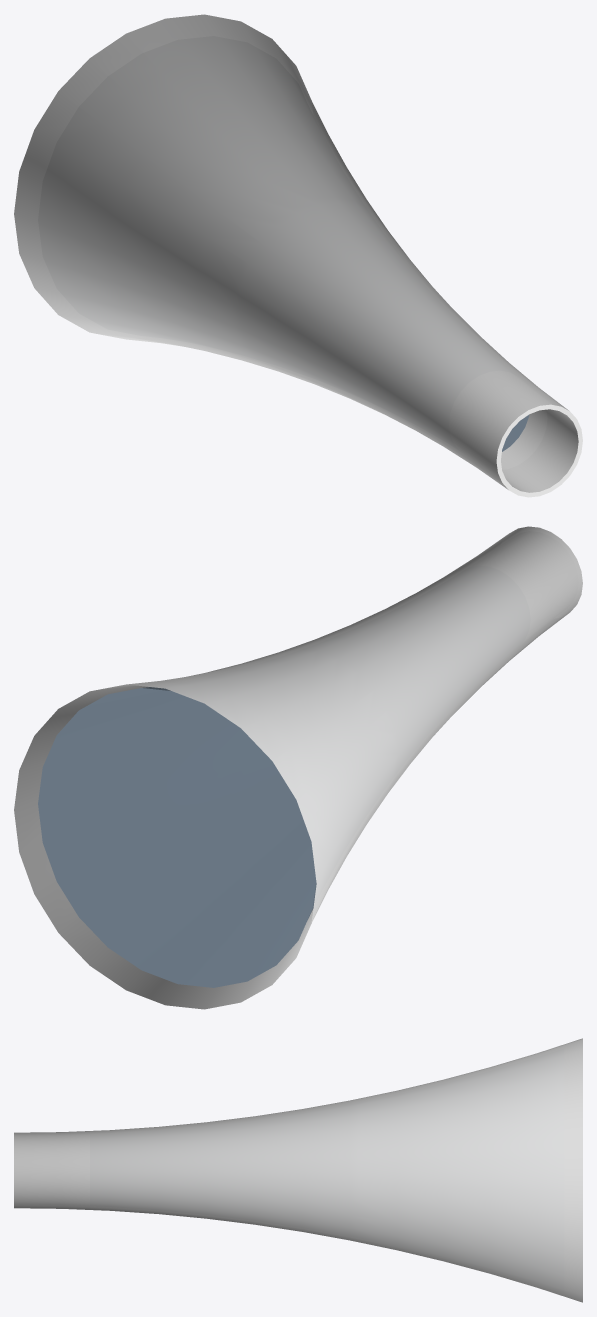
Rendered from model_scale.obj.
3 views of the same model, one above another, from view 1: azimuth 30°, elevation 25°; view 2: azimuth 150°, elevation 25°; view 3: azimuth 270°, elevation 25° (orthographic). The views are drawn at different scales.
Parts seen in each view (by area): view 1: mesh2_mesh2-geometry; view 2: mesh2_mesh2-geometry, mesh1_mesh1-geometry; view 3: mesh2_mesh2-geometry.
Part boxes in pixels (x1=…): mesh2_mesh2-geometry: x1=14, y1=14, x2=582, y2=497; mesh2_mesh2-geometry: x1=14, y1=526, x2=582, y2=1009; mesh1_mesh1-geometry: x1=38, y1=687, x2=316, y2=987; mesh2_mesh2-geometry: x1=14, y1=1038, x2=582, y2=1302.
Size of the model in its own units: 0.0839 by 0.0839 by 0.1797.
